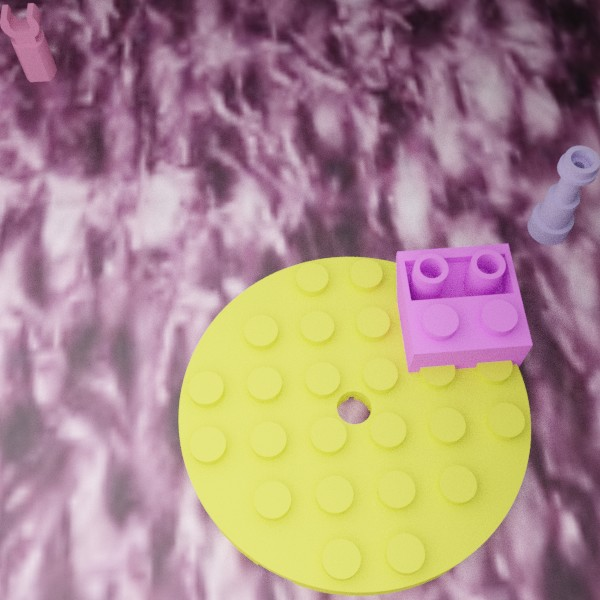lego: (178, 257, 530, 595), (396, 243, 532, 381), (527, 145, 600, 245), (0, 3, 56, 82)
